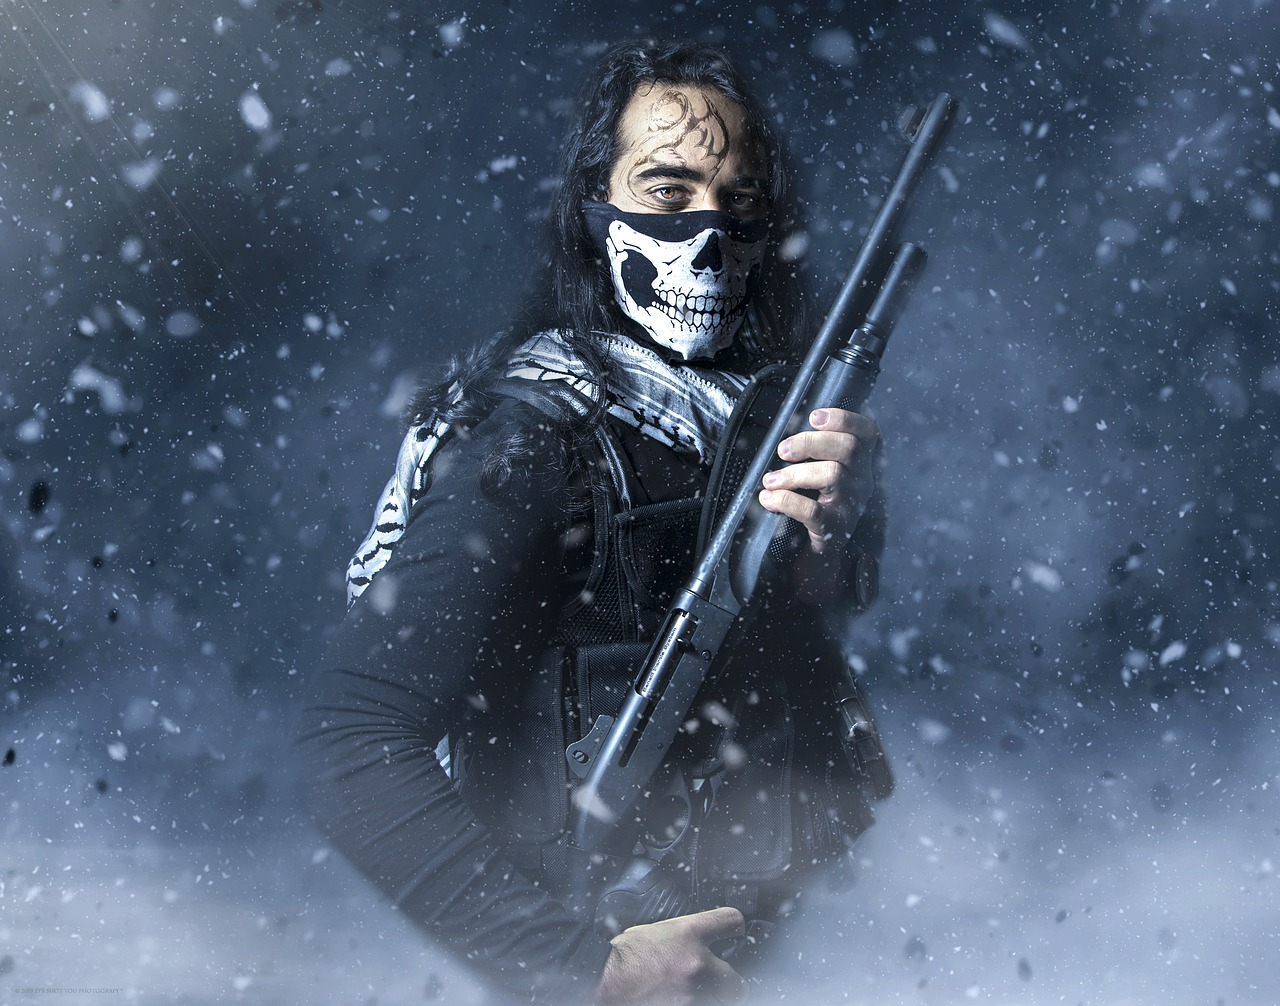gun: (553, 85, 964, 945)
